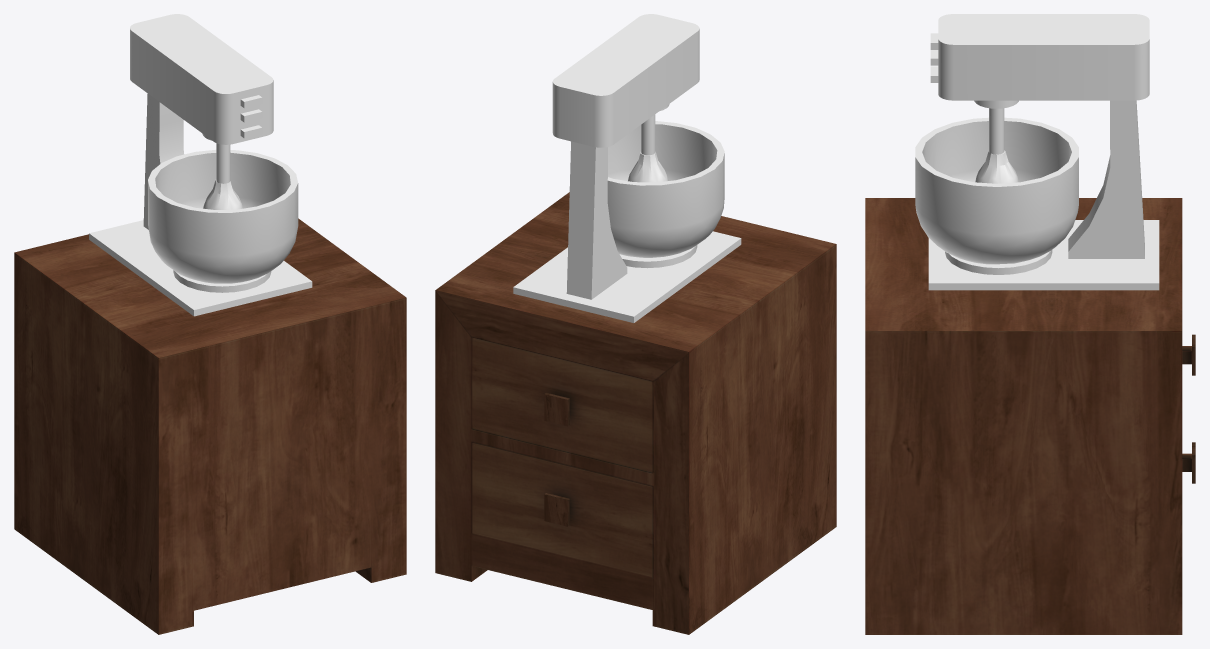
The model's file is FoodMixer.glb.
3 views of the same model, side by side, from view 1: azimuth 30°, elevation 25°; view 2: azimuth 150°, elevation 25°; view 3: azimuth 270°, elevation 25° (orthographic). The views are drawn at different scales.
Visible parts, largest first — view 1: Bollard, ID50, ID26, K4210_-_Mixer__Table_Mounted__5_Qt, ID20, ID14, ID44, ID38; view 2: Bollard, ID26, ID50, K4210_-_Mixer__Table_Mounted__5_Qt, ID20, ID44, ID14; view 3: Bollard, ID50, ID26, K4210_-_Mixer__Table_Mounted__5_Qt, ID20, ID14, ID44, ID38.
Boxes of the visible parts, <box> form: Bollard: <box>14,218,406,634</box>; ID50: <box>148,149,298,283</box>; ID26: <box>130,14,273,144</box>; K4210_-_Mixer__Table_Mounted__5_Qt: <box>89,220,312,316</box>; ID20: <box>143,93,184,229</box>; ID14: <box>173,270,271,292</box>; ID44: <box>203,180,242,209</box>; ID38: <box>216,143,230,183</box>; Bollard: <box>435,192,836,634</box>; ID26: <box>552,14,699,147</box>; ID50: <box>607,121,724,257</box>; K4210_-_Mixer__Table_Mounted__5_Qt: <box>513,231,741,322</box>; ID20: <box>566,141,627,299</box>; ID44: <box>628,152,668,182</box>; ID14: <box>619,245,697,268</box>; Bollard: <box>865,198,1195,634</box>; ID50: <box>915,117,1078,264</box>; ID26: <box>938,14,1149,100</box>; K4210_-_Mixer__Table_Mounted__5_Qt: <box>928,220,1159,290</box>; ID20: <box>1068,100,1144,258</box>; ID14: <box>945,250,1052,274</box>; ID44: <box>975,150,1018,183</box>; ID38: <box>989,108,1004,154</box>.
Bounding box in the file's own units: 0.6138 × 1.16 × 0.645.
Materials: 2 (1 with a texture image).
